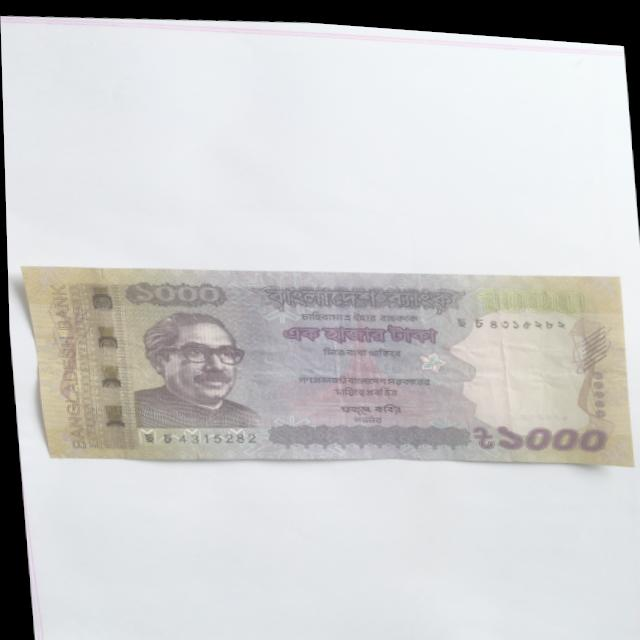Taka: (18, 229, 640, 499)
